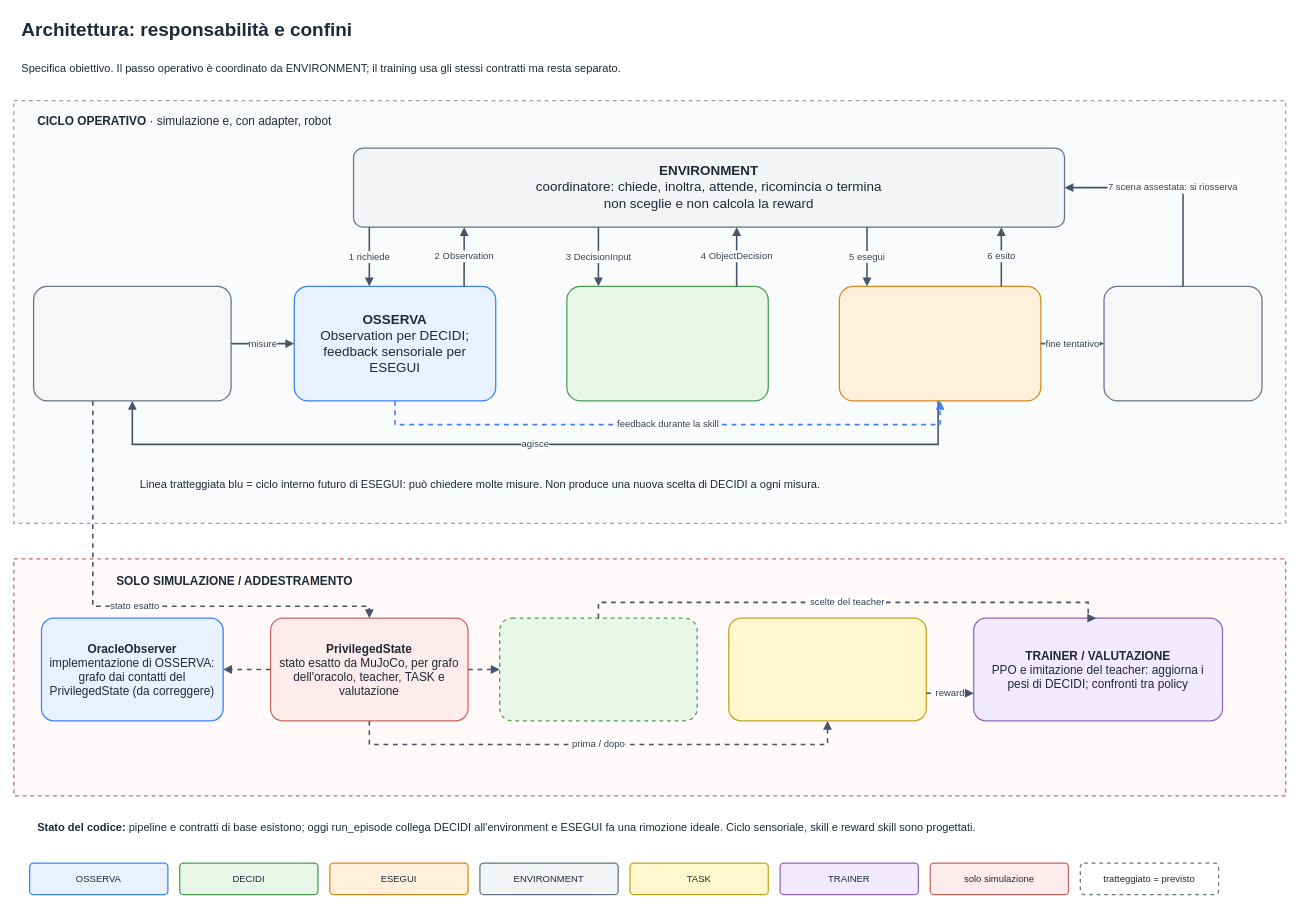
The diagram is 1300 pixels wide and 909 high, and some of its shapes have lost their labels. Each missing label, with the centre of its shape:
Assestamento simulazione / attesa fisica: the point at 1182,343
DECIDI sceglie un object_id nessuna skill o traiettoria: the point at 667,343
DECIDI teacher DecisionInput + PrivilegedState: the point at 598,669
ESEGUI valuta fattibilità, controlla la skill, restituisce fatti: the point at 939,343
MONDO MuJoCo in simulazione robot + oggetti nel reale: the point at 132,343
TASK reward e terminazione di DECIDI; reward skill di ESEGUI: classe futura: the point at 827,669
